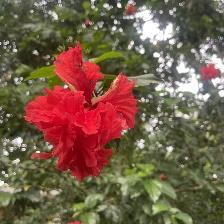hibiscus: (24, 44, 139, 186)
